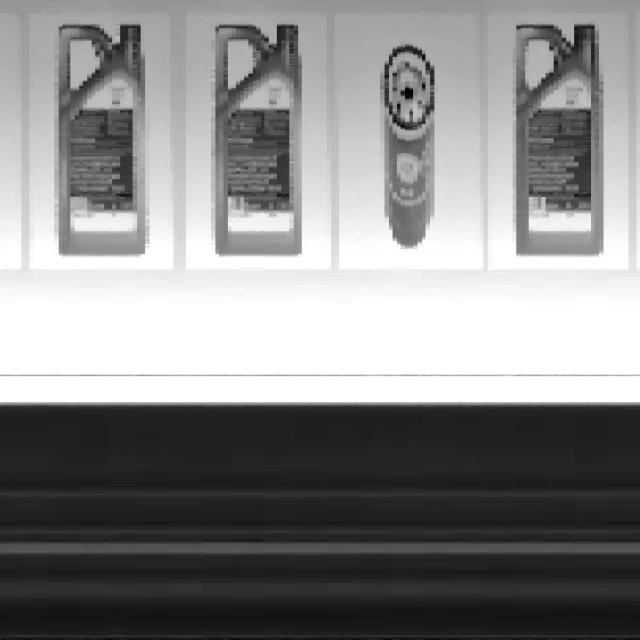motor_oil: (511, 15, 608, 262), (209, 16, 304, 257), (56, 19, 149, 265)
oil_filter: (380, 38, 438, 250)
